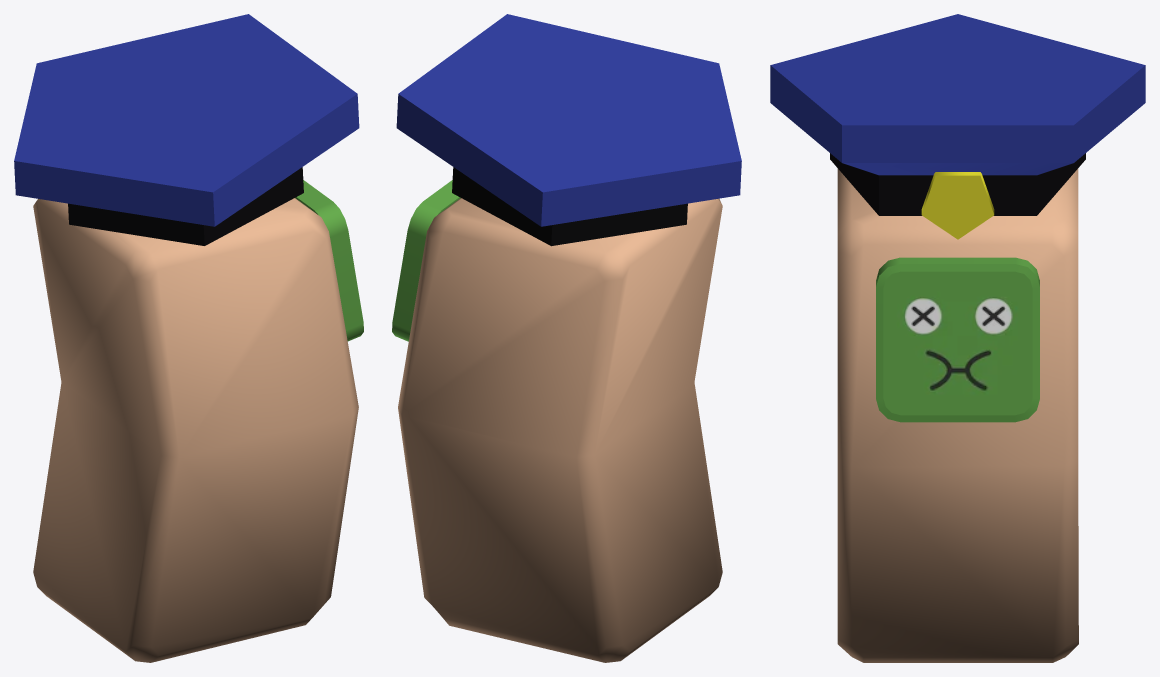
The model's file is Police.fbx.
3 renders of one model, left to right at view 1: azimuth 30°, elevation 25°; view 2: azimuth 150°, elevation 25°; view 3: azimuth 270°, elevation 25°, orthographic. The views are drawn at different scales.
Parts seen in each view (by area): view 1: Cube.037, Cylinder.022, Cube.036; view 2: Cube.037, Cylinder.022, Cube.036; view 3: Cube.037, Cylinder.022, Cube.036.
Boxes of the visible parts, x1,y1,x2,y2 form: Cube.037: [33, 198, 358, 662]; Cylinder.022: [14, 14, 359, 245]; Cube.036: [295, 180, 363, 341]; Cube.037: [398, 198, 722, 662]; Cylinder.022: [396, 14, 741, 246]; Cube.036: [392, 180, 460, 341]; Cube.037: [837, 168, 1078, 662]; Cylinder.022: [770, 14, 1145, 239]; Cube.036: [876, 257, 1039, 422].
Bounding box in the file's own units: 43.39 × 44.66 × 71.02.
